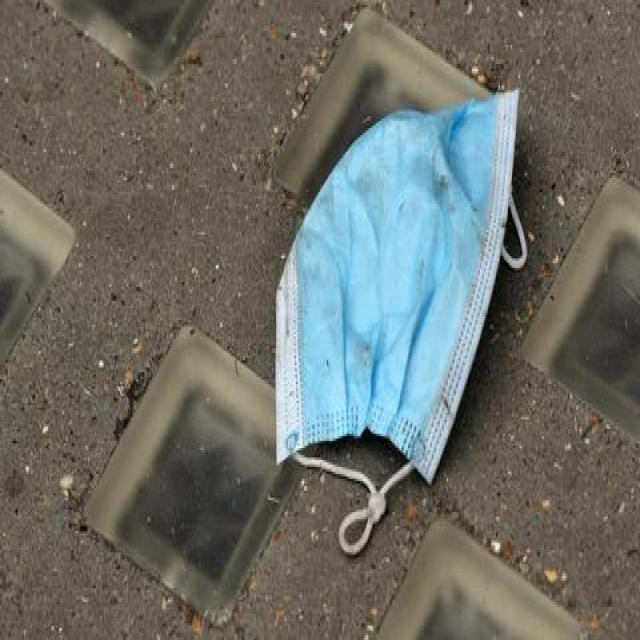non-organic waste: (275, 83, 524, 552)
